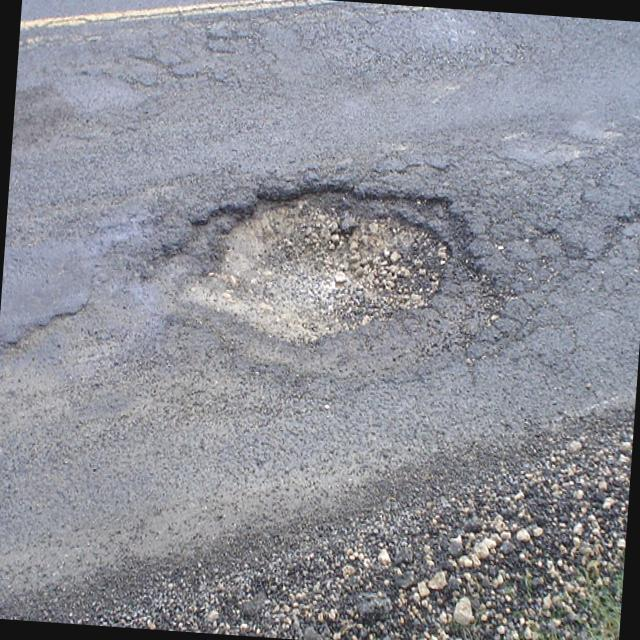bad-road: (167, 166, 512, 357)
